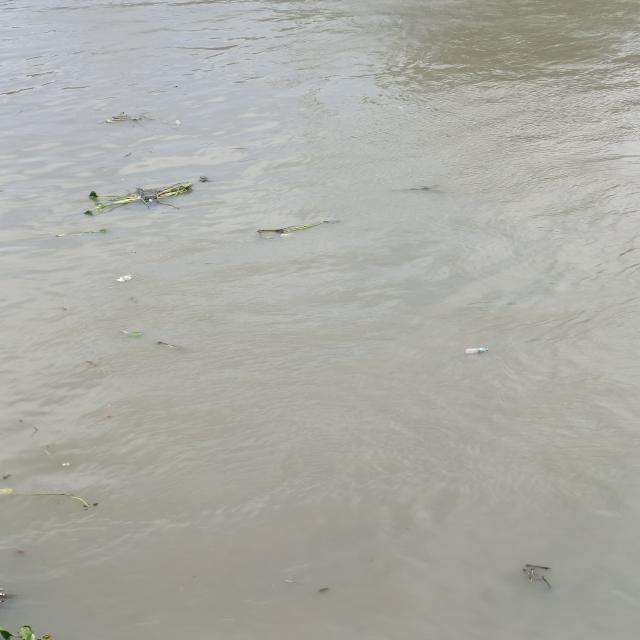Organic Debris: (63, 171, 210, 228), (0, 480, 105, 520), (243, 212, 344, 244), (109, 331, 193, 356), (0, 609, 66, 640), (96, 102, 162, 130), (384, 175, 454, 200), (312, 578, 336, 603)
Plastic: (104, 261, 150, 296), (456, 344, 492, 359), (52, 460, 83, 473), (168, 115, 190, 129), (0, 485, 15, 499)
